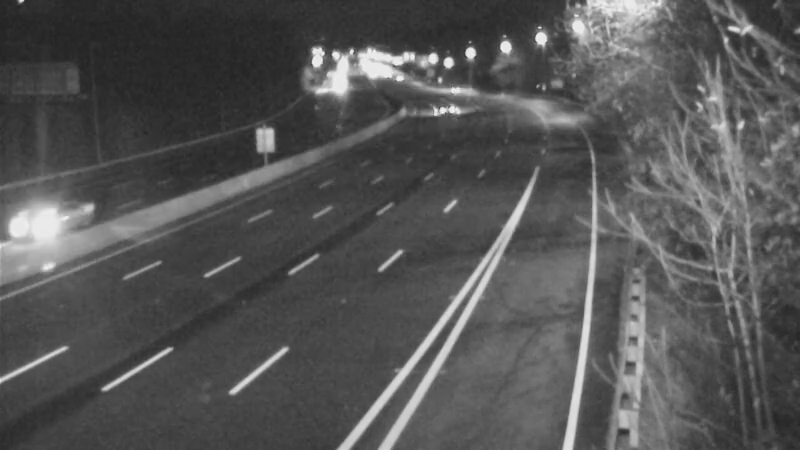vehicle: (1, 180, 81, 260), (428, 61, 478, 111), (418, 80, 468, 130)
